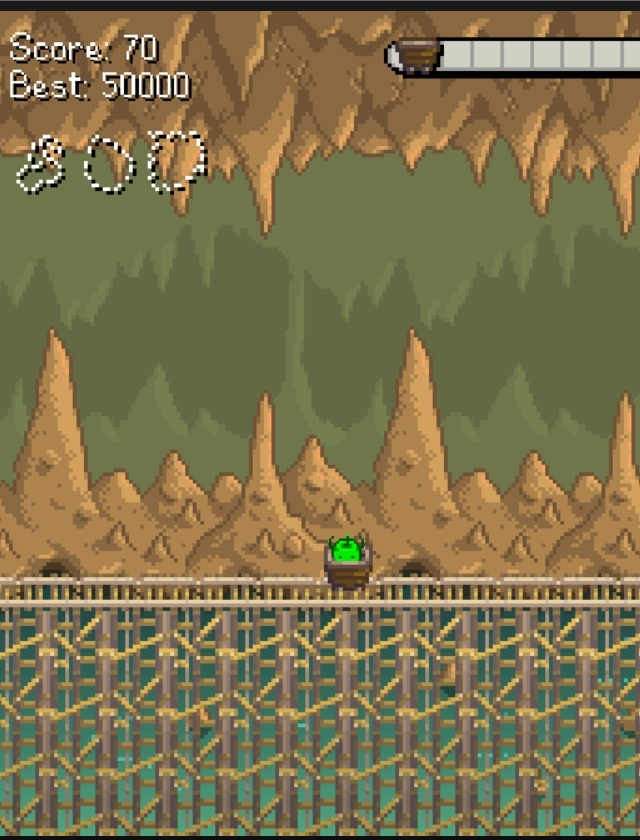minecart: (324, 534, 371, 588)
score: (120, 29, 159, 66)
tracks: (0, 565, 316, 612)
